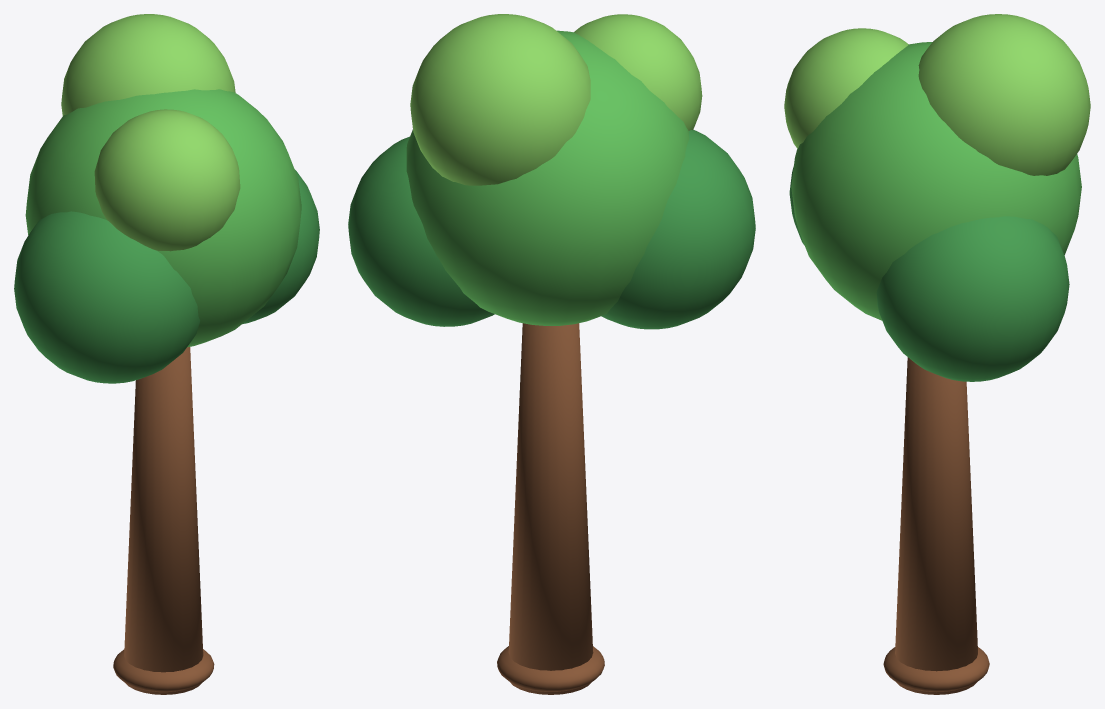
The model's file is tree.glb.
The picture shows the model from 3 angles, left to right: view 1: azimuth 30°, elevation 25°; view 2: azimuth 150°, elevation 25°; view 3: azimuth 270°, elevation 25°; orthographic projection. The views are drawn at different scales.
Parts seen in each view (by area): view 1: Tree; view 2: Tree; view 3: Tree.
Boxes of the visible parts, bbox=[...] form: Tree: bbox=[14, 14, 319, 694]; Tree: bbox=[348, 14, 755, 694]; Tree: bbox=[784, 14, 1090, 694].
Bounding box in the file's own units: 2.18 × 4.14 × 1.73.
